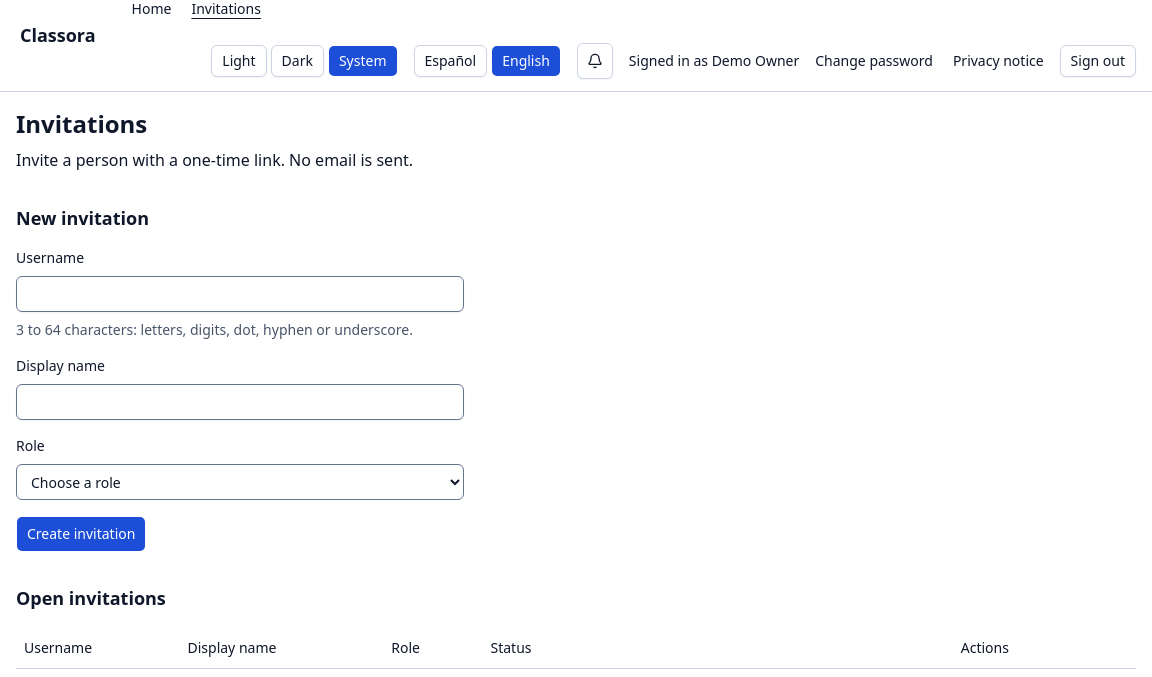
Scenario: the invite form (I2) › validates without a request and focuses the first invalid field
The width and height of the screenshot is (1152, 677).
Click the button "Create invitation" at (81, 534), box x1=16 y1=516 x2=146 y2=552
(page scrolled)
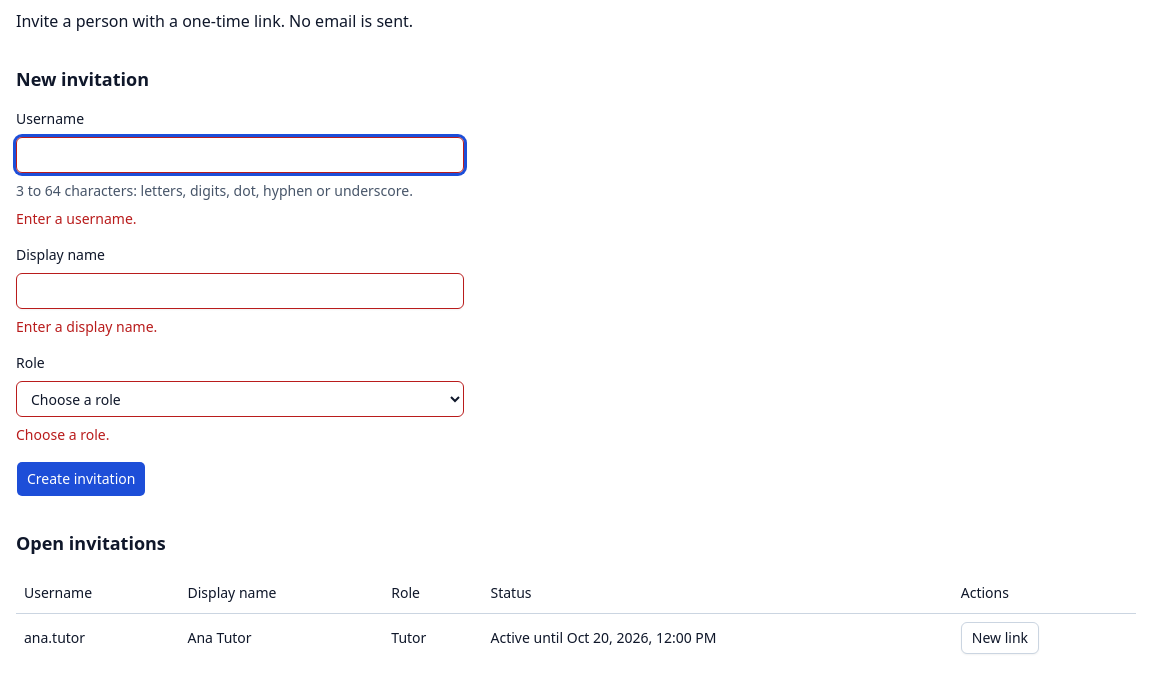
Expected: the element that starts with "Invitations" shows "Enter a username.", x1=16 y1=209 x2=137 y2=228
Expected: the element that starts with "Invitations" shows "Choose a role.", x1=16 y1=425 x2=109 y2=444
